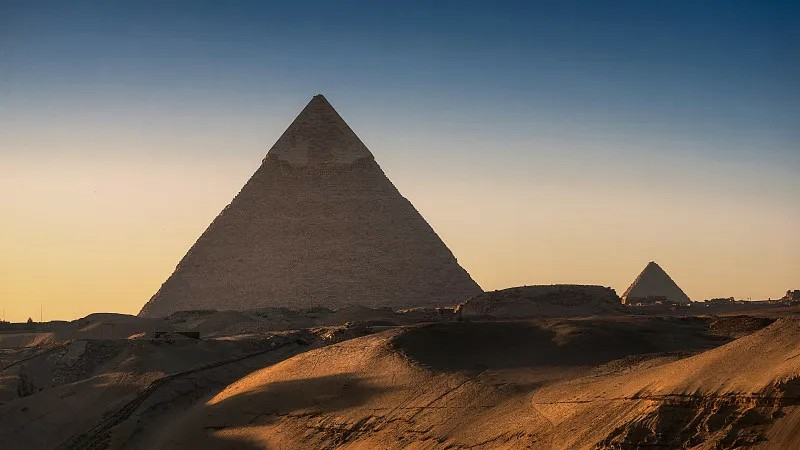Pyramid: (140, 95, 485, 314), (621, 261, 694, 305)
